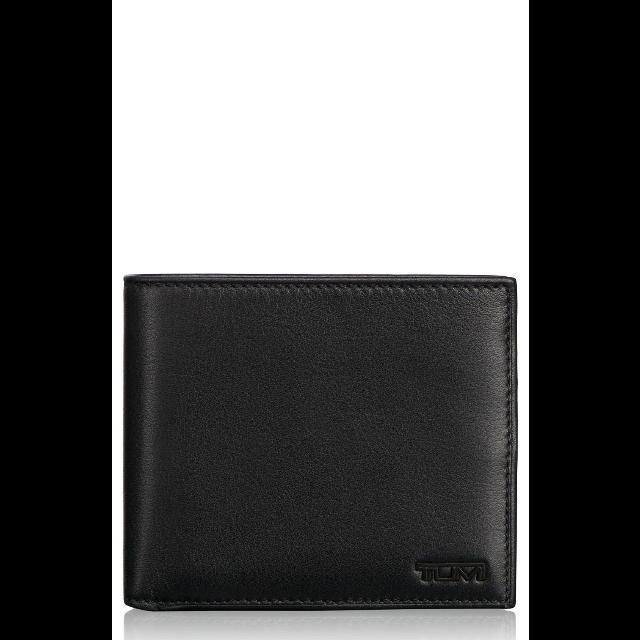Wallet: (116, 266, 518, 614)
